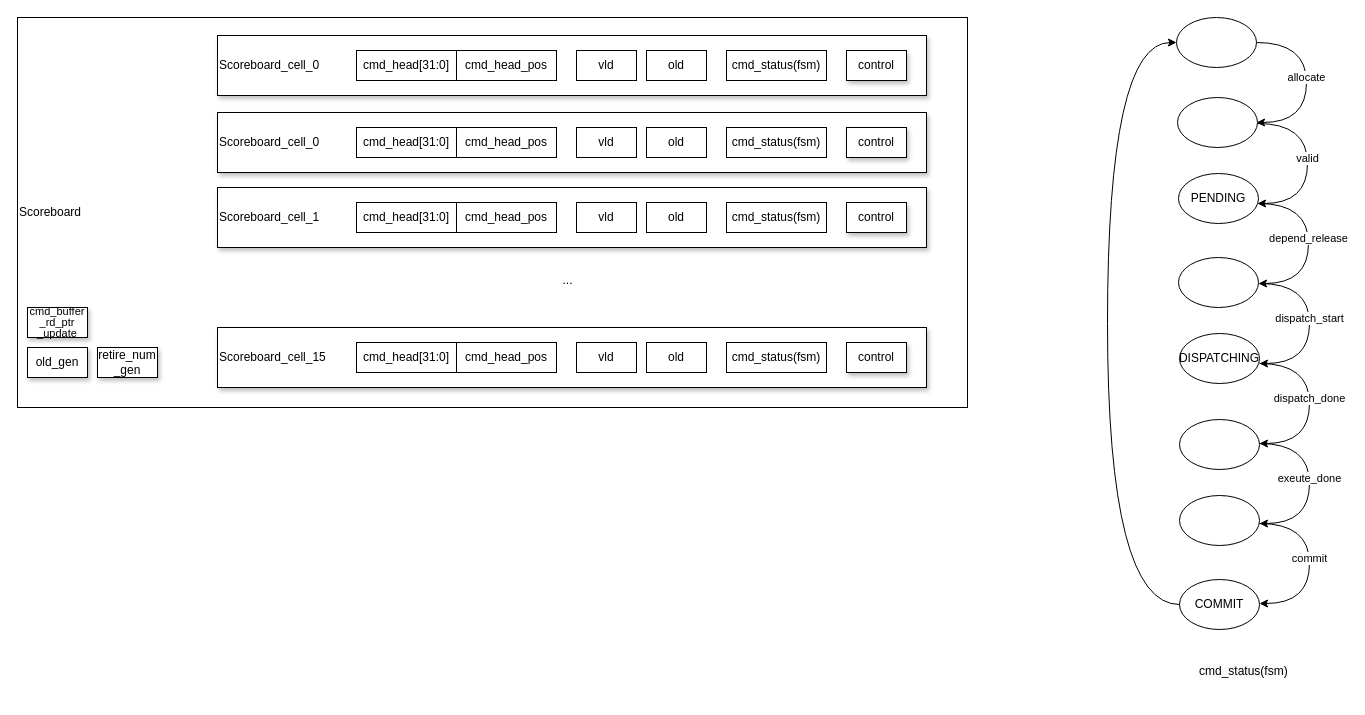
This 1365x715 diagram has some shape labels left out. The centre of each missing label's shape, as x and y in pixels:
"DONE" belongs at [1219,520].
"EXECUTING" belongs at [1219,444].
"IDLE" belongs at [1216,42].
"WAIT_DISPATCH" belongs at [1218,282].
"WAIT_VLD" belongs at [1217,122].
